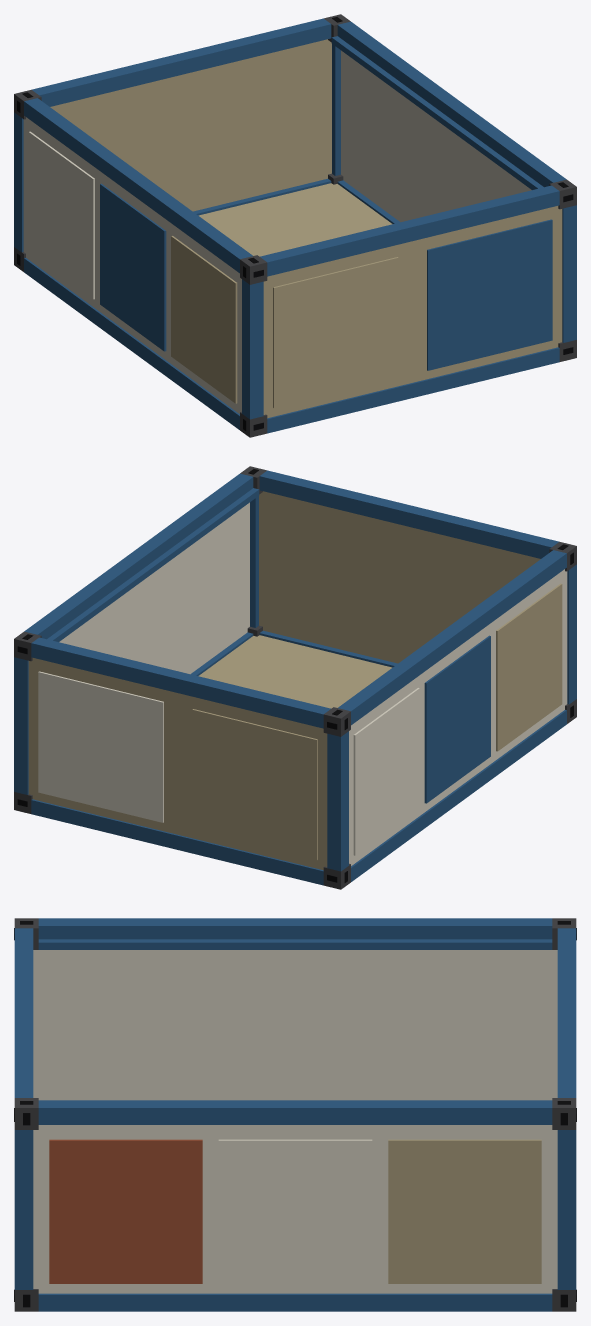
The model's file is drone4_frame.obj.
The picture shows the model from 3 angles, top to bottom: view 1: azimuth 30°, elevation 25°; view 2: azimuth 150°, elevation 25°; view 3: azimuth 270°, elevation 25°; orthographic projection. The views are drawn at different scales.
Parts seen in each view (by area): view 1: drone4_frame; view 2: drone4_frame; view 3: drone4_frame.
Part boxes in pixels (<box>): drone4_frame: <box>14,14,576,437</box>; drone4_frame: <box>14,466,576,889</box>; drone4_frame: <box>14,918,576,1311</box>.
Bounding box in the file's own units: 3.38 × 1.7 × 4.23.
